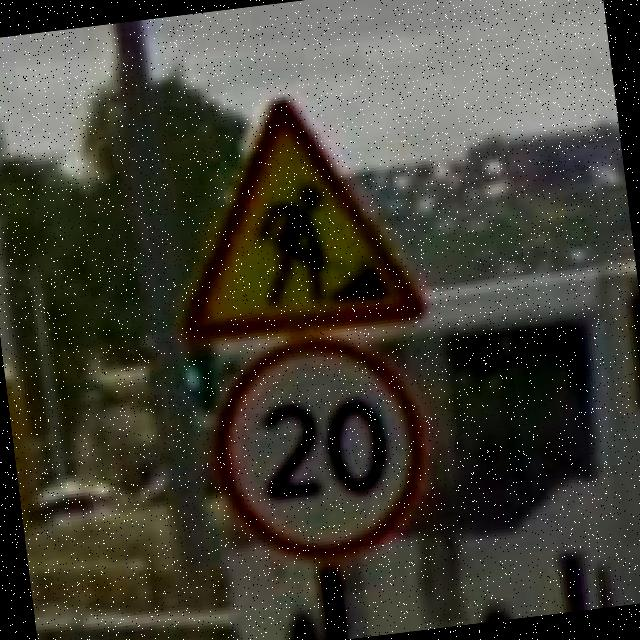Ograniczenie predkosci do 20: (198, 322, 447, 575)
